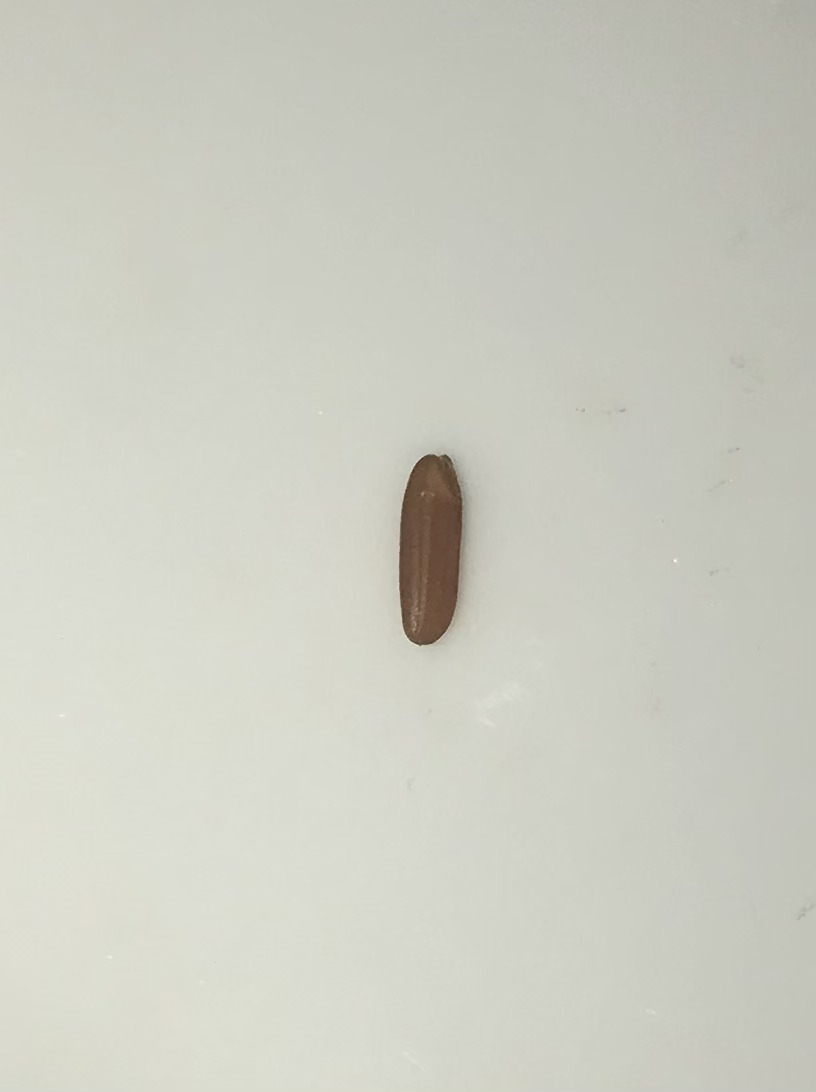Gao Huyet Rong: (392, 450, 480, 646)
